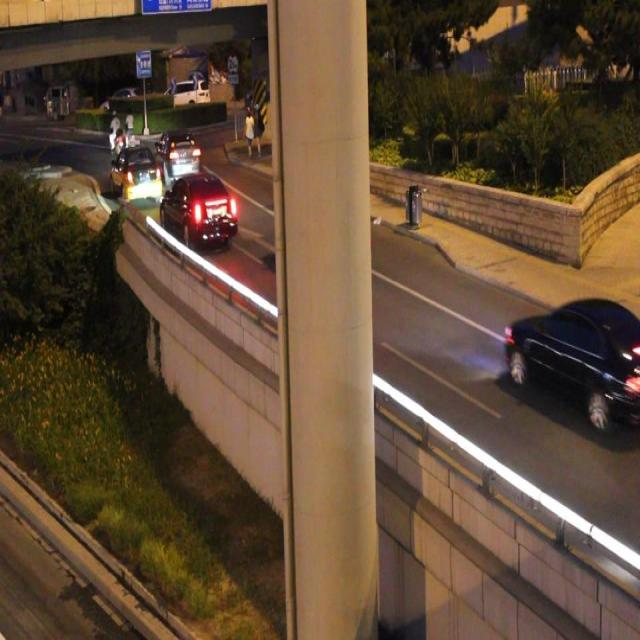car: (504, 293, 640, 431), (281, 185, 369, 278), (159, 172, 238, 248), (108, 140, 162, 205), (155, 129, 200, 183)
